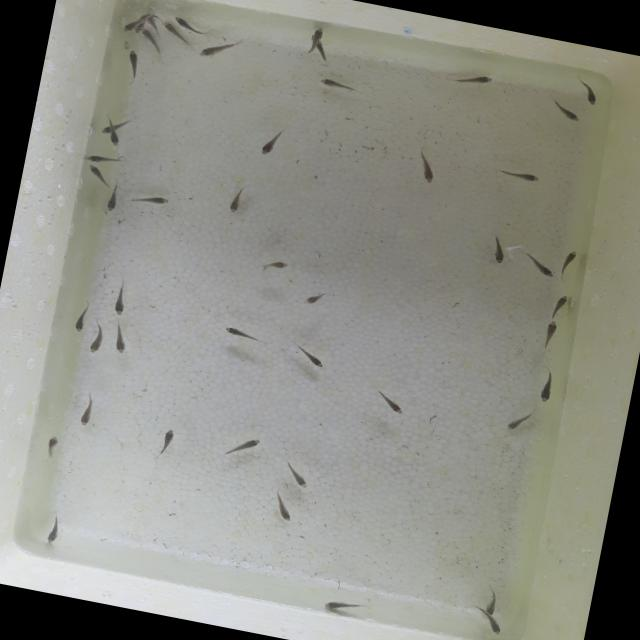fingerling: (196, 39, 238, 64), (134, 188, 176, 212), (318, 594, 367, 614), (374, 392, 409, 418), (522, 257, 559, 281), (280, 462, 310, 490), (552, 102, 586, 126), (297, 348, 332, 371), (252, 132, 280, 160), (576, 84, 606, 110), (453, 70, 496, 88), (228, 433, 262, 455), (222, 184, 246, 215), (272, 498, 298, 526), (498, 168, 540, 184), (108, 290, 132, 318), (502, 411, 528, 436), (156, 21, 190, 40), (84, 152, 122, 168), (487, 244, 512, 268), (478, 596, 505, 618), (220, 325, 256, 341), (258, 255, 290, 273), (418, 160, 440, 186), (82, 163, 110, 183), (304, 24, 328, 46), (558, 248, 578, 274), (315, 76, 350, 90), (44, 433, 66, 455), (549, 293, 570, 316), (538, 378, 556, 404), (101, 193, 120, 217), (160, 427, 178, 452), (113, 331, 131, 356), (44, 520, 61, 546), (125, 48, 142, 74), (70, 312, 90, 334), (172, 14, 196, 32), (540, 322, 556, 348), (300, 288, 323, 306), (484, 618, 506, 636), (78, 404, 94, 428), (86, 333, 102, 356), (104, 132, 126, 148), (122, 14, 138, 36), (98, 122, 116, 138), (138, 28, 156, 44)
